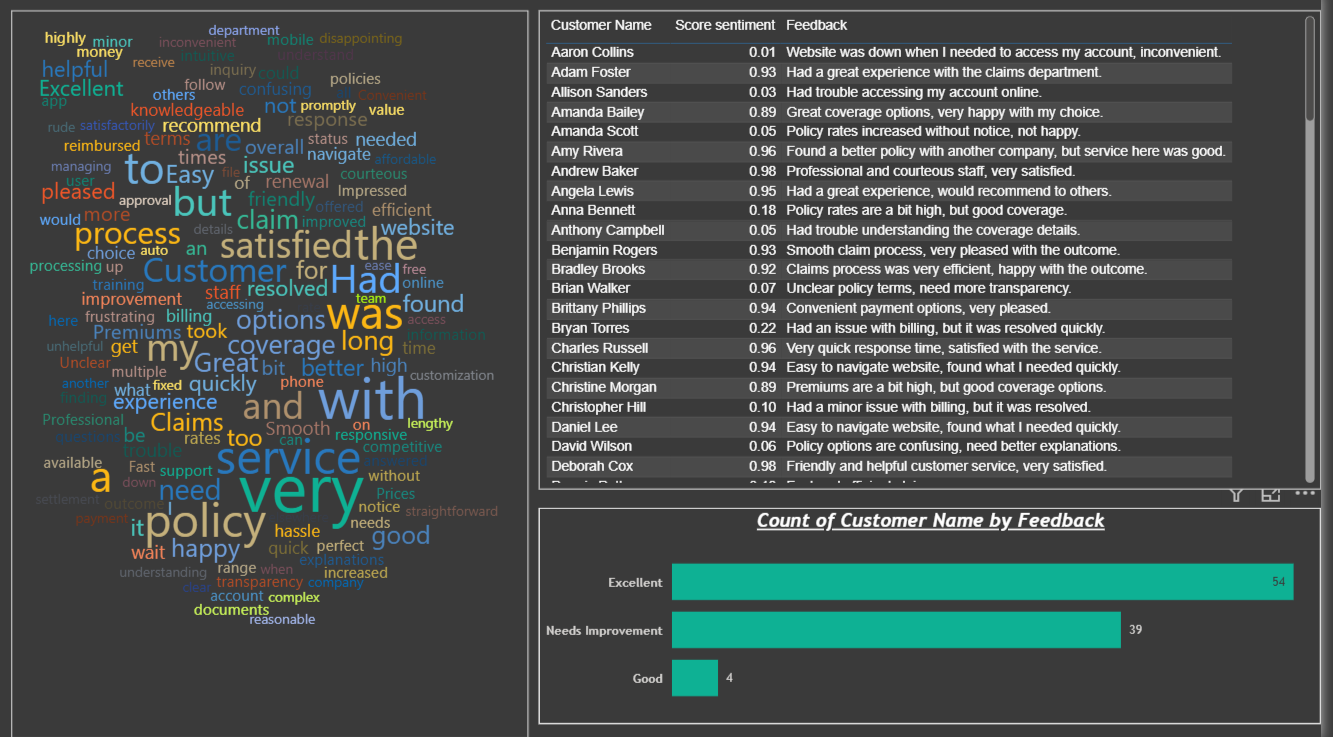

What the dashboard file says about the page in this screenshot:
{"tool":"powerbi","page":{"name":"Page 3","canvas":[1280,720],"ordinal":2},"visuals":[{"type":"WordCloud1447959067750","fields":{"Category":["Sheet1.Feedback"],"Values":["CountNonNull(Sheet1.Feedback)"]},"box":[15.7,16.9,499.5,703.4],"z":0},{"type":"barChart","title":"Count of Customer Name by Feedback","fields":{"Category":["Sheet1.Good/Improvement"],"Y":["CountNonNull(Sheet1.Customer Name)"]},"box":[524.8,497.1,755.2,208.7],"z":1},{"type":"tableEx","fields":{"Values":["Sheet1.Customer Name","Sheet1.Score sentiment","Sheet1.Feedback"]},"box":[524.8,16.9,755.2,462.1],"z":2}]}

Visuals, with their boxes in screenshot pixels (x1, y1, x2, y2), scaled from the page's 1280x720 canvas onto the 1333x737 screenshot:
WordCloud1447959067750 - Sheet1.Feedback x CountNonNull(Sheet1.Feedback): (left=16, top=17, right=537, bottom=736)
"Count of Customer Name by Feedback" barChart: (left=547, top=509, right=1332, bottom=722)
tableEx - Sheet1.Customer Name x Sheet1.Score sentiment: (left=547, top=17, right=1332, bottom=490)
